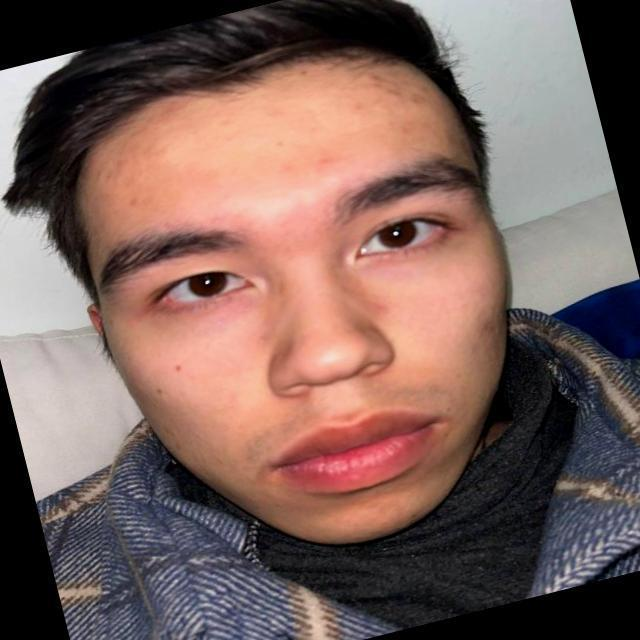nodules: (360, 65, 429, 119), (316, 151, 348, 177), (125, 191, 155, 209)
